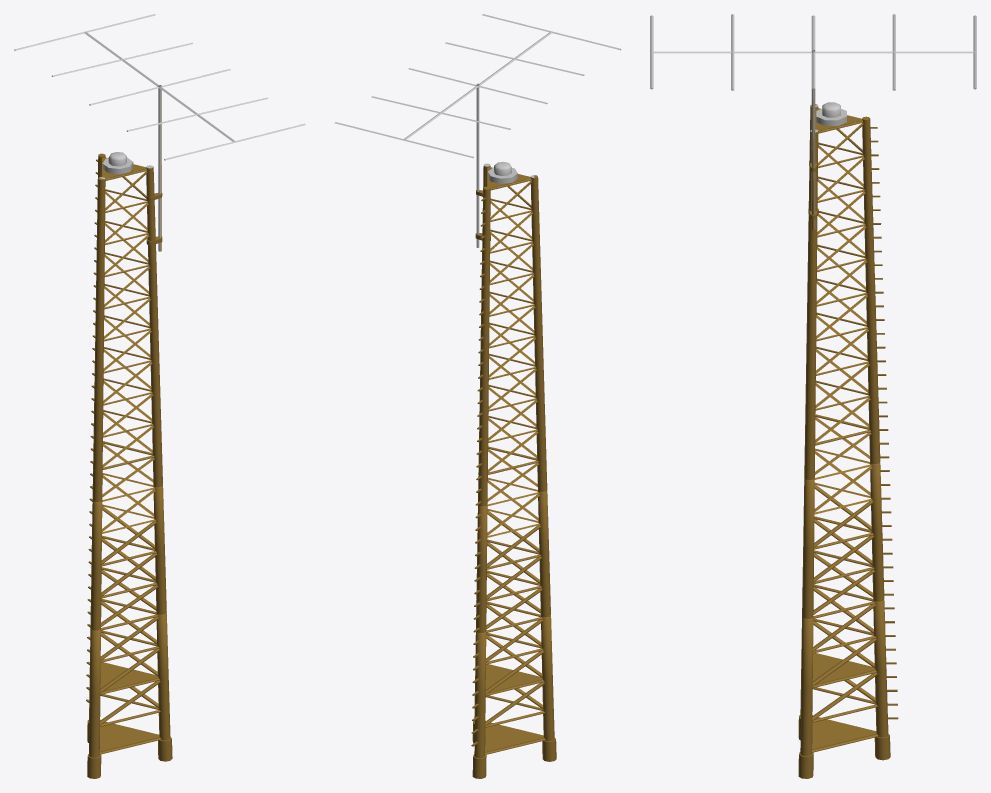
Rendered from TaChi6LOD0.glb.
The picture shows the model from 3 angles, left to right: view 1: azimuth 30°, elevation 25°; view 2: azimuth 150°, elevation 25°; view 3: azimuth 270°, elevation 25°; orthographic projection. The views are drawn at different scales.
Parts seen in each view (by area): view 1: S_Camp_CBRadio_Tower_01; view 2: S_Camp_CBRadio_Tower_01; view 3: S_Camp_CBRadio_Tower_01.
Boxes of the visible parts, x1,y1,x2,y2 form: S_Camp_CBRadio_Tower_01: (14, 14, 305, 778); S_Camp_CBRadio_Tower_01: (334, 14, 621, 778); S_Camp_CBRadio_Tower_01: (650, 14, 976, 778).
Bounding box in the file's own units: 3.43 × 15.12 × 6.19.
